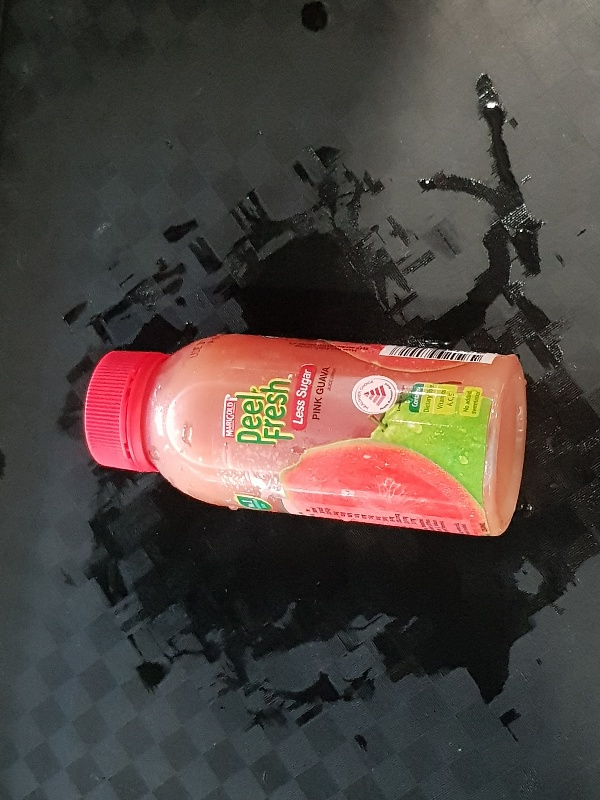Marigold Peel Fresh Pink Guava Juice Drink: (83, 333, 528, 539)
